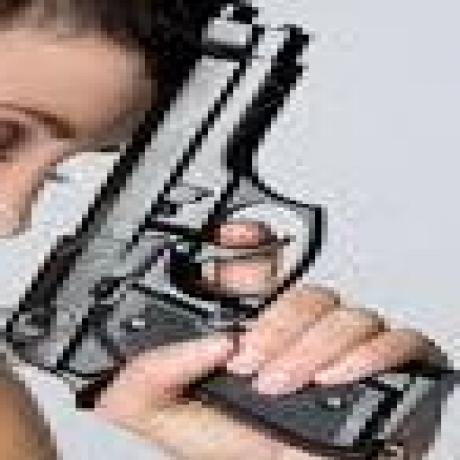weapon: (27, 6, 434, 430)
